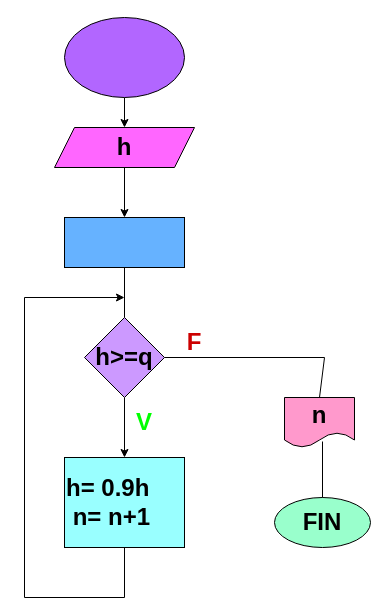
Image size: 388x616. Some labels were removed from this diagram. The box of each missing label's shape, as (x1, y1, x2, y2) in pixels:
INICIO: (64, 16, 184, 98)
q = h/5 n = 0: (64, 216, 184, 268)
